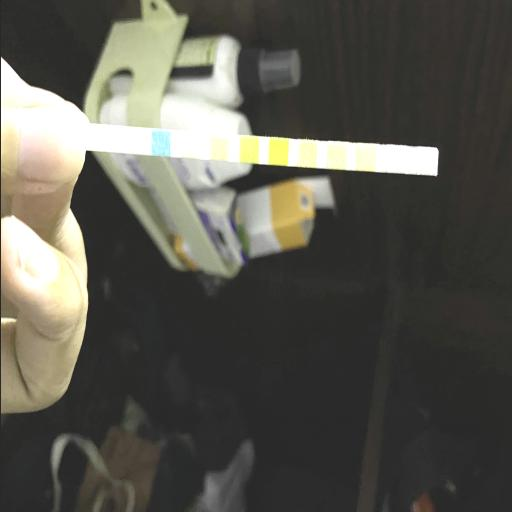Bilirubin: (181, 132, 199, 158)
Blood: (268, 140, 286, 166)
Glucose: (152, 132, 170, 156)
Ketone: (210, 136, 228, 160)
Leukocytes: (416, 150, 434, 174)
Nitrite: (387, 148, 405, 172)
Protein: (328, 145, 346, 169)
SpGravity: (240, 137, 258, 163)
Urobilinogen: (357, 146, 375, 172)
pH: (298, 142, 316, 167)
strip: (85, 124, 437, 175)
